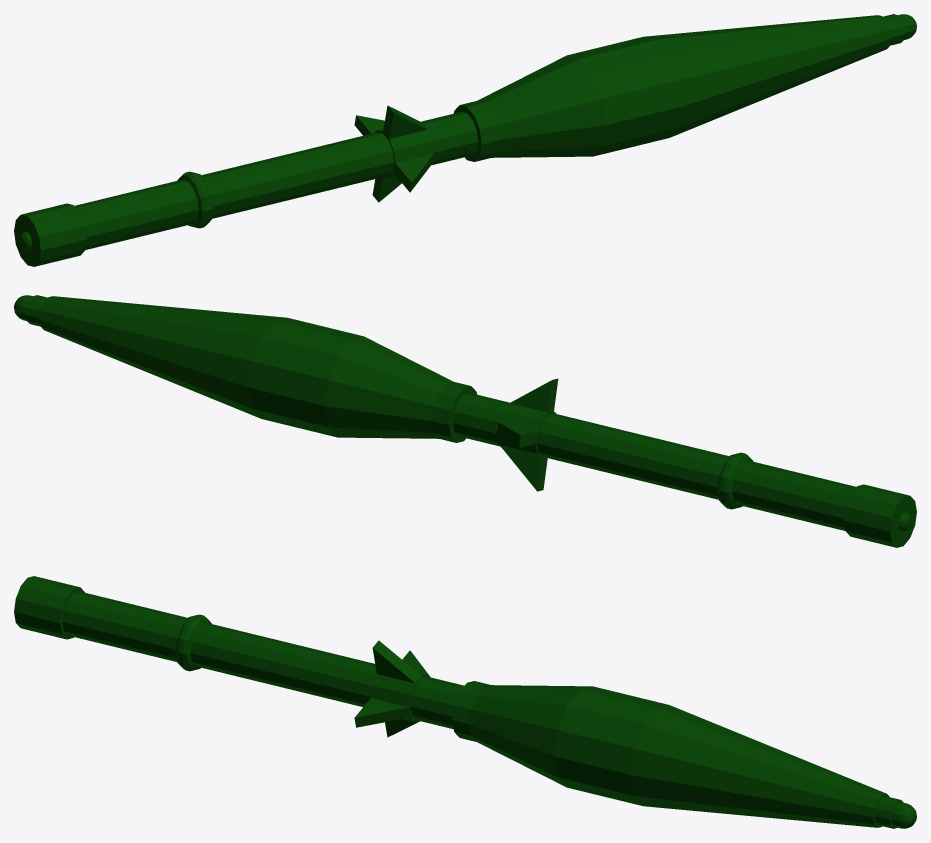
The model's file is missil.fbx.
3 views of the same model, one above another, from view 1: azimuth 30°, elevation 25°; view 2: azimuth 150°, elevation 25°; view 3: azimuth 330°, elevation 25° (orthographic).
Visible parts, largest first — view 1: Cylinder.003; view 2: Cylinder.003; view 3: Cylinder.003.
Boxes of the visible parts, x1,y1,x2,y2 form: Cylinder.003: [14, 14, 916, 266]; Cylinder.003: [14, 295, 916, 547]; Cylinder.003: [14, 576, 916, 828].
Bounding box in the file's own units: 231 × 25.57 × 25.57.
